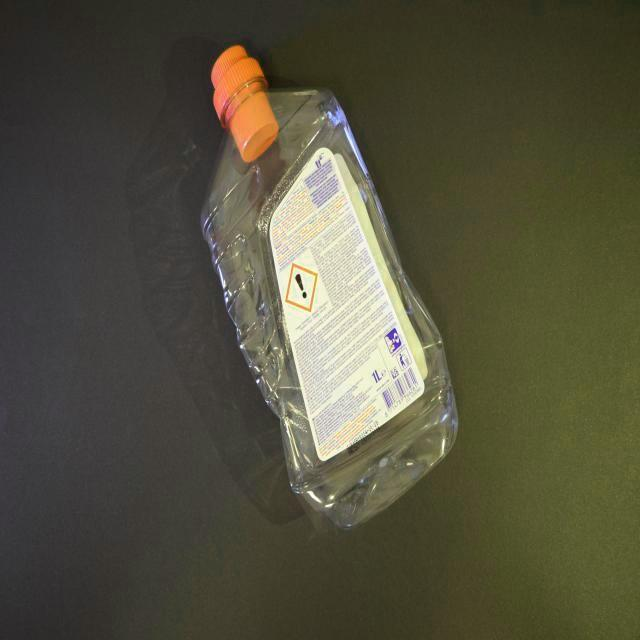bottle: (200, 45, 459, 531)
